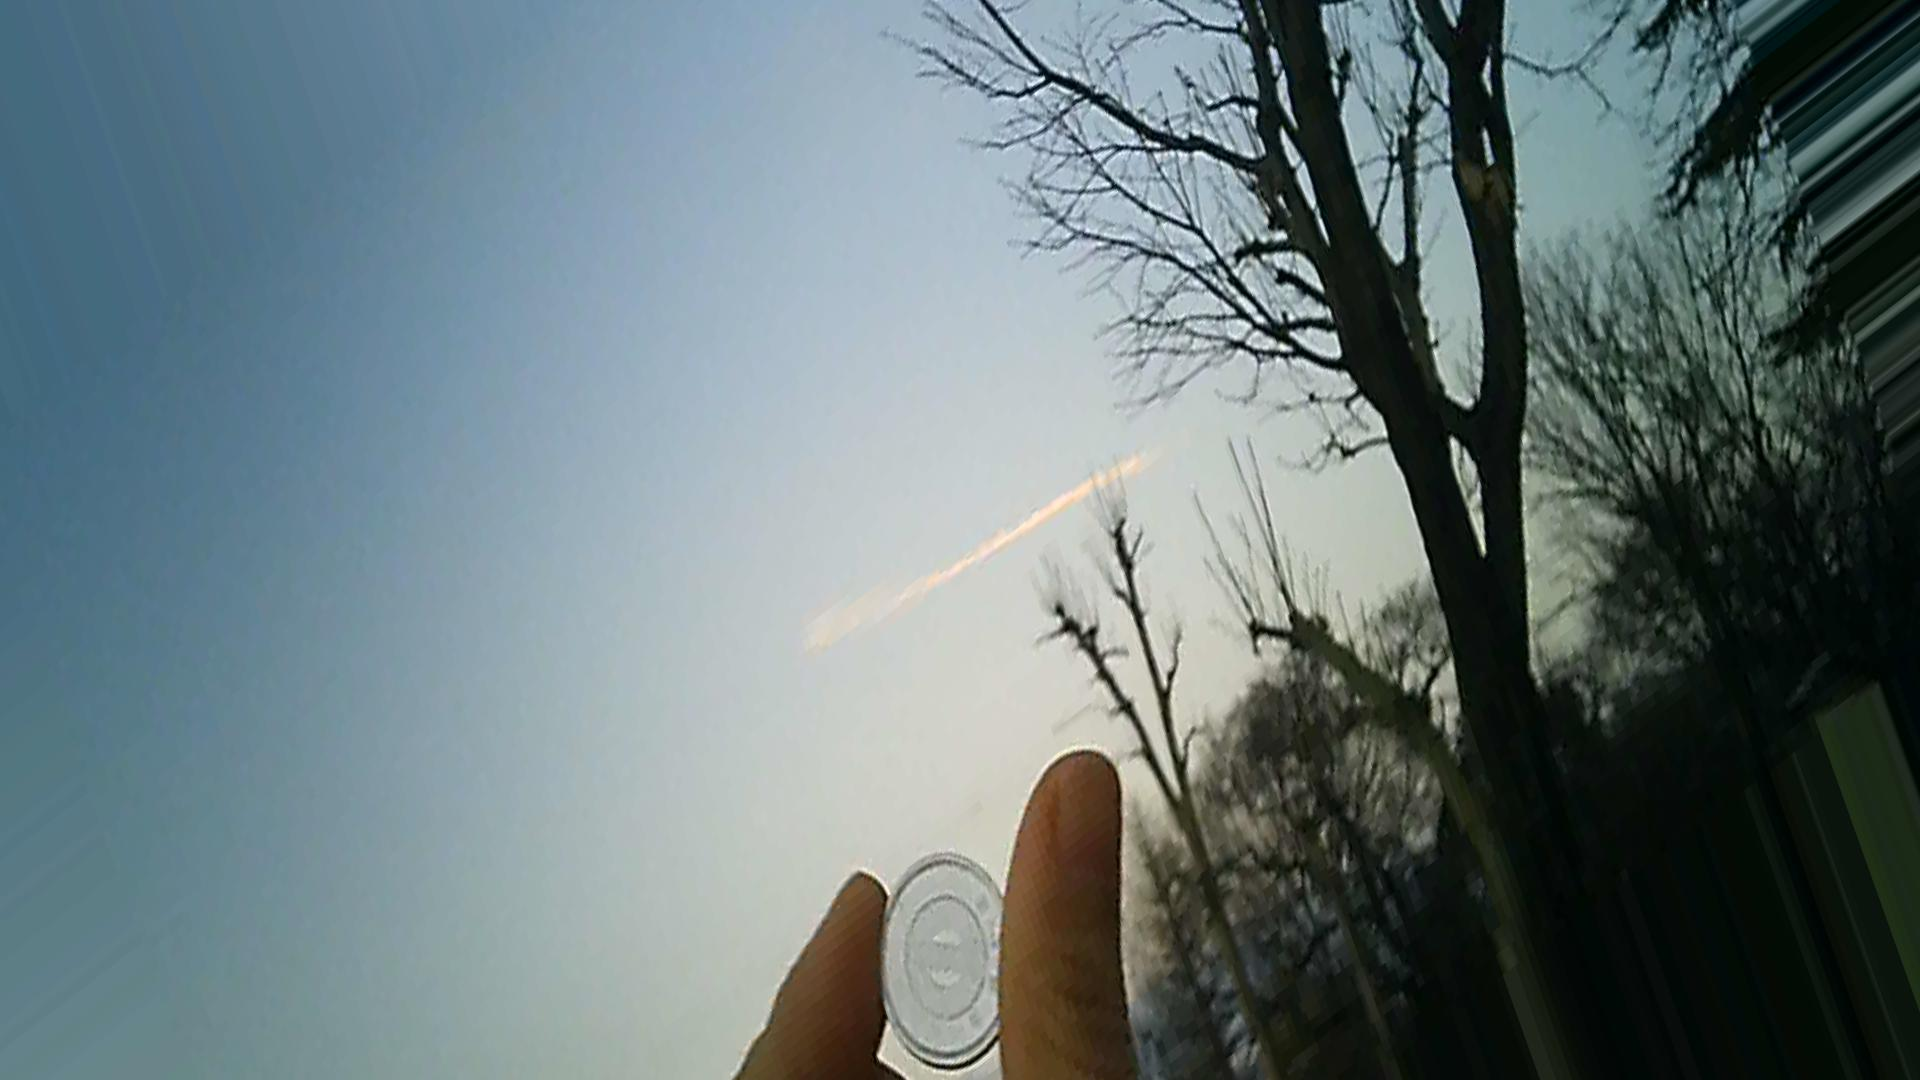1 Yen: (876, 862, 1033, 1068)
